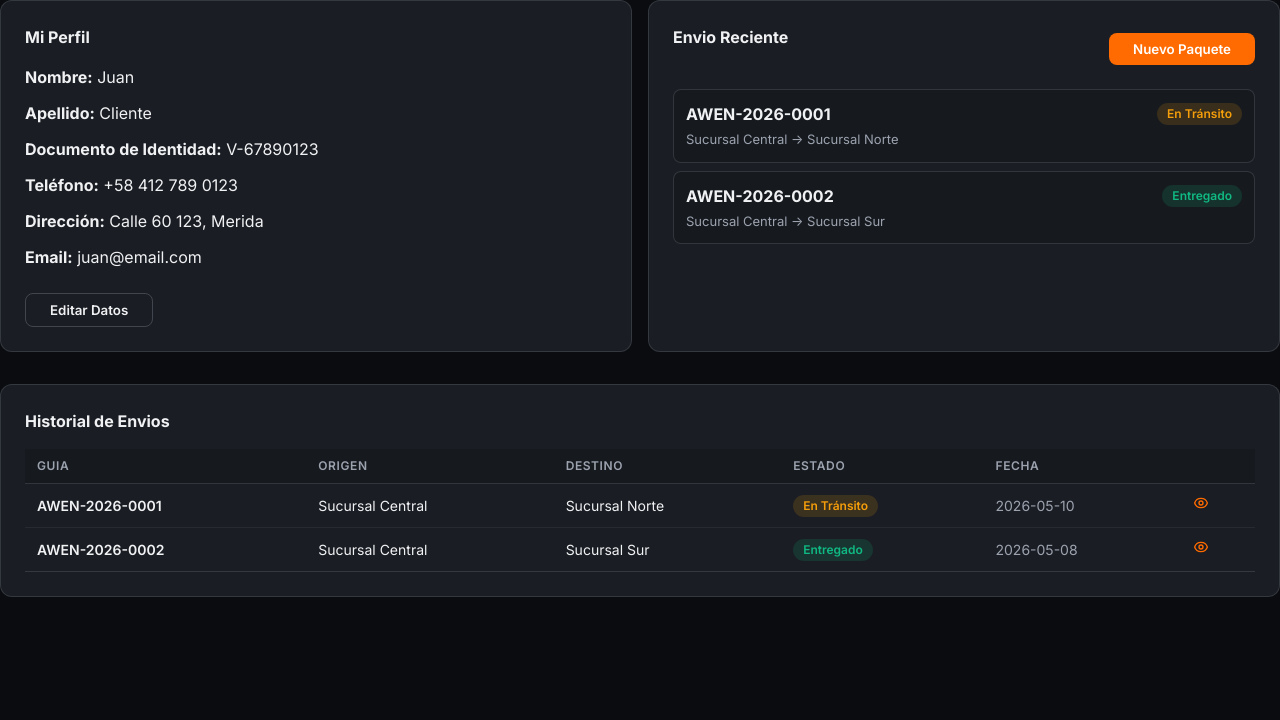
Test: ClientProfile › muestra las notificaciones del conductor en el tracking
Check: the heading "Historial de Envios" is shown, box [25, 411, 170, 431]
Click the text "AWEN-2026-0001" at point(758, 114), box [686, 102, 830, 126]
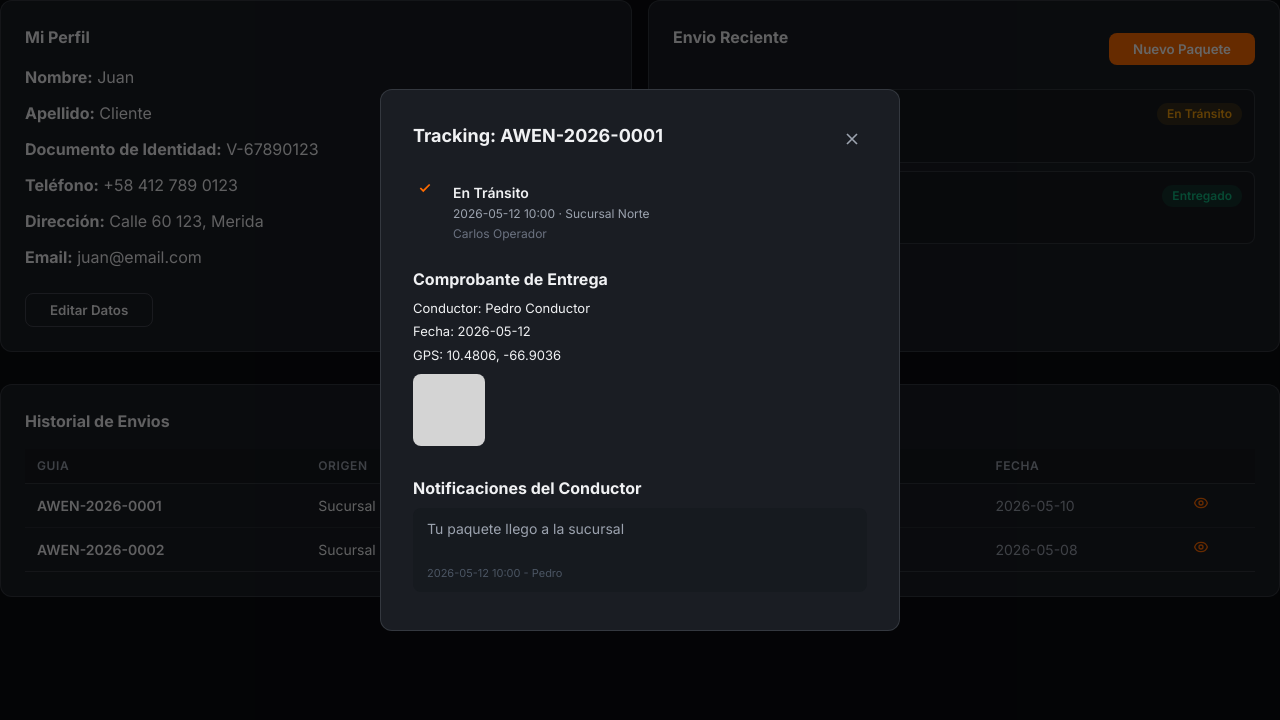
Check: the heading "Notificaciones del Conductor" is shown, box [413, 478, 642, 498]
Check: the text "Tu paquete llego a la sucursal" is shown, box [427, 520, 624, 536]
